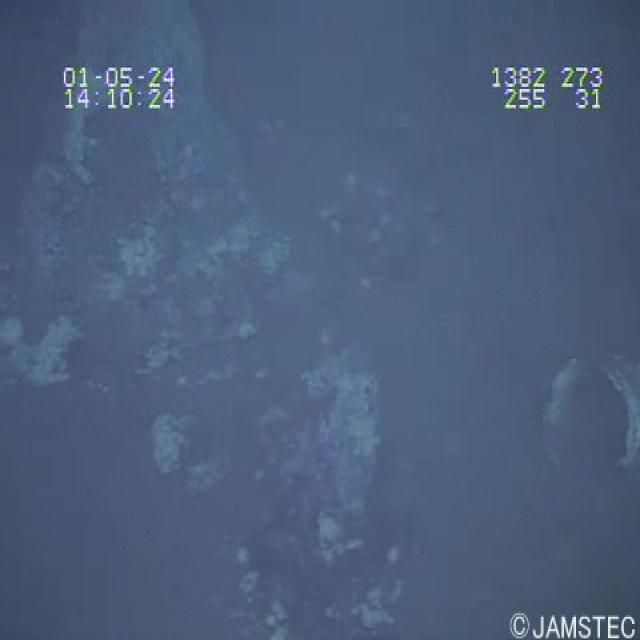plastic: (542, 343, 638, 484)
